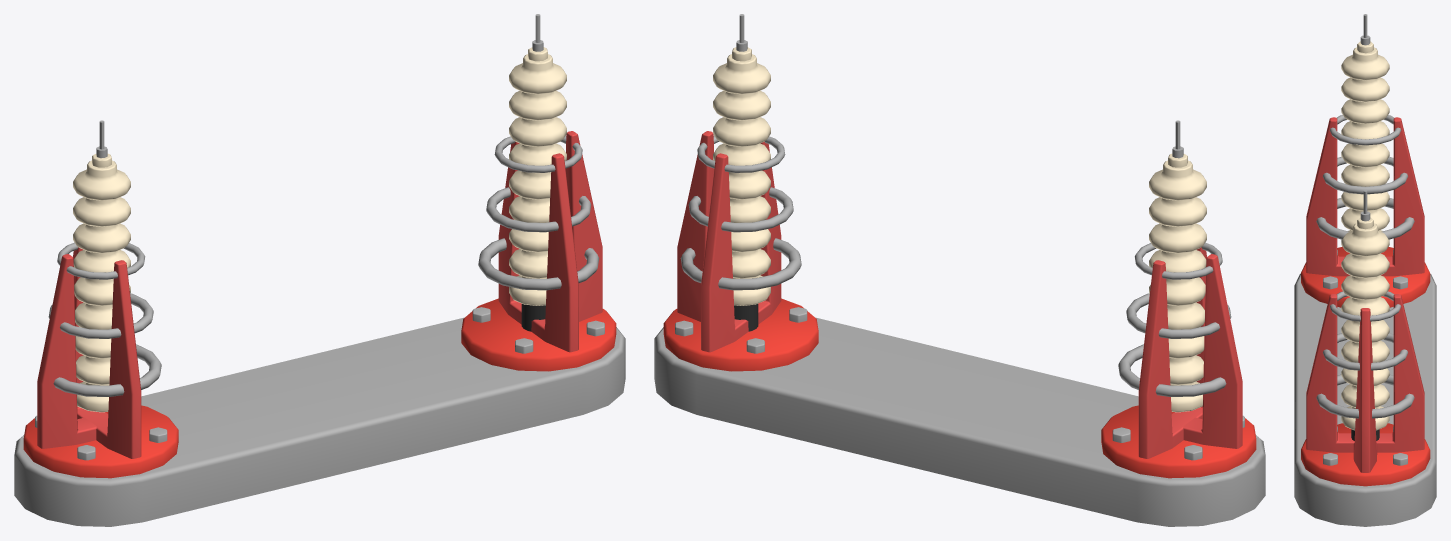
File: obstacle_7_001.fbx
3 renders of one model, left to right at view 1: azimuth 30°, elevation 25°; view 2: azimuth 150°, elevation 25°; view 3: azimuth 270°, elevation 25°, orthographic. The views are drawn at different scales.
Visible parts, largest first — view 1: obstacle_7_001; view 2: obstacle_7_001; view 3: obstacle_7_001.
Boxes of the visible parts, x1,y1,x2,y2 form: obstacle_7_001: (14,14,625,526); obstacle_7_001: (654,14,1265,526); obstacle_7_001: (1294,14,1436,526).
Size of the model in its own units: 1887 by 477 by 1128.
